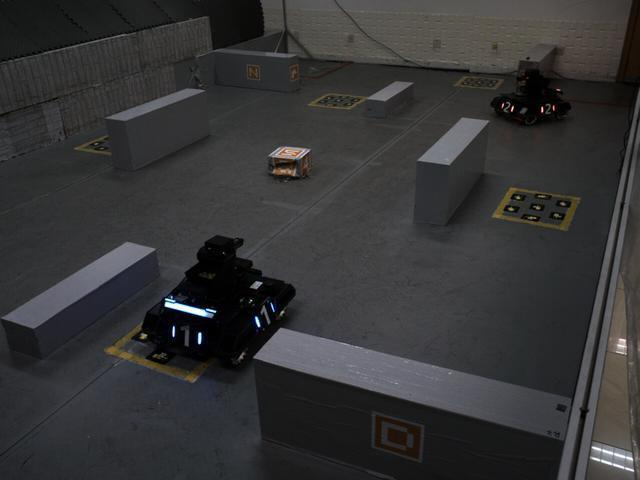armor: (167, 319, 209, 356), (247, 297, 282, 335), (498, 96, 518, 119), (535, 99, 558, 118)
